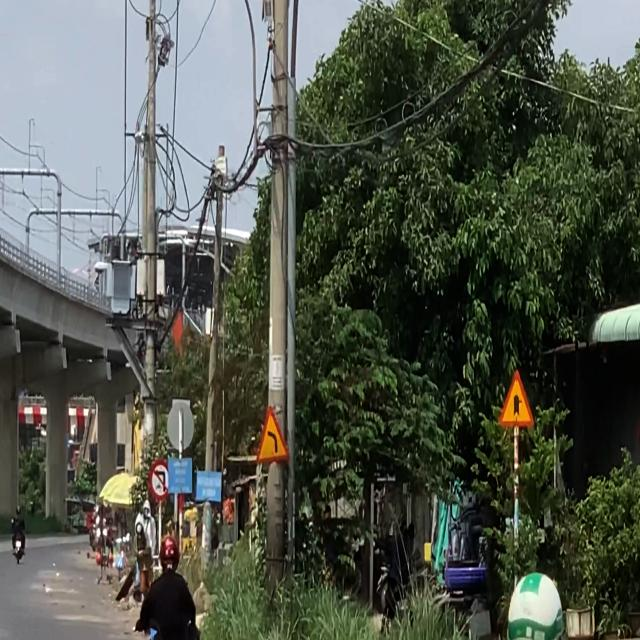Cam re trai: (149, 458, 169, 499)
Giao voi duong khong uu tien: (498, 363, 536, 431)
Nguy hiem: (254, 402, 291, 468)
